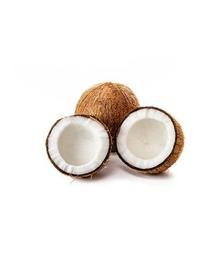coconut: (74, 81, 142, 151), (115, 107, 184, 175), (45, 113, 111, 176)
